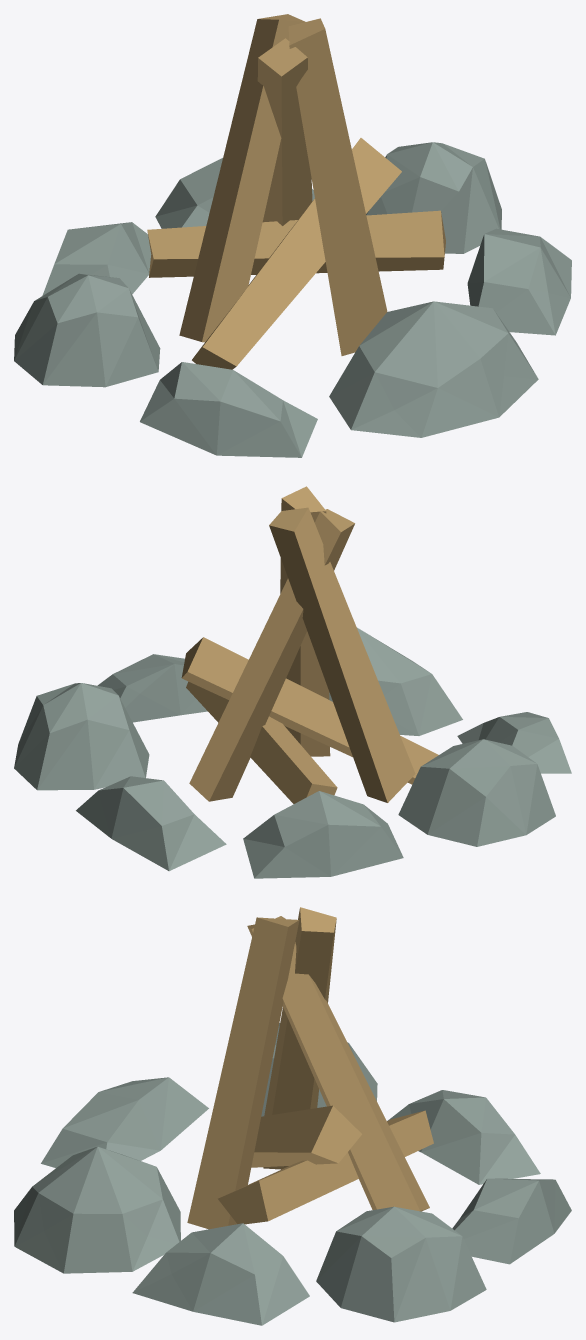
Rendered from camps de feu.fbx.
3 renders of one model, top to bottom at view 1: azimuth 30°, elevation 25°; view 2: azimuth 150°, elevation 25°; view 3: azimuth 270°, elevation 25°, orthographic. The views are drawn at different scales.
Parts seen in each view (by area): view 1: fireplace_01, fireplace_01.001; view 2: fireplace_01, fireplace_01.001; view 3: fireplace_01, fireplace_01.001.
Part boxes in pixels (x1,y1,x2,y2): fireplace_01: [14, 142, 571, 457]; fireplace_01.001: [147, 14, 445, 369]; fireplace_01: [14, 627, 571, 878]; fireplace_01.001: [181, 486, 438, 803]; fireplace_01: [14, 1023, 571, 1325]; fireplace_01.001: [187, 907, 433, 1229].
Bounding box in the file's own units: 162 × 92.5 × 151.
